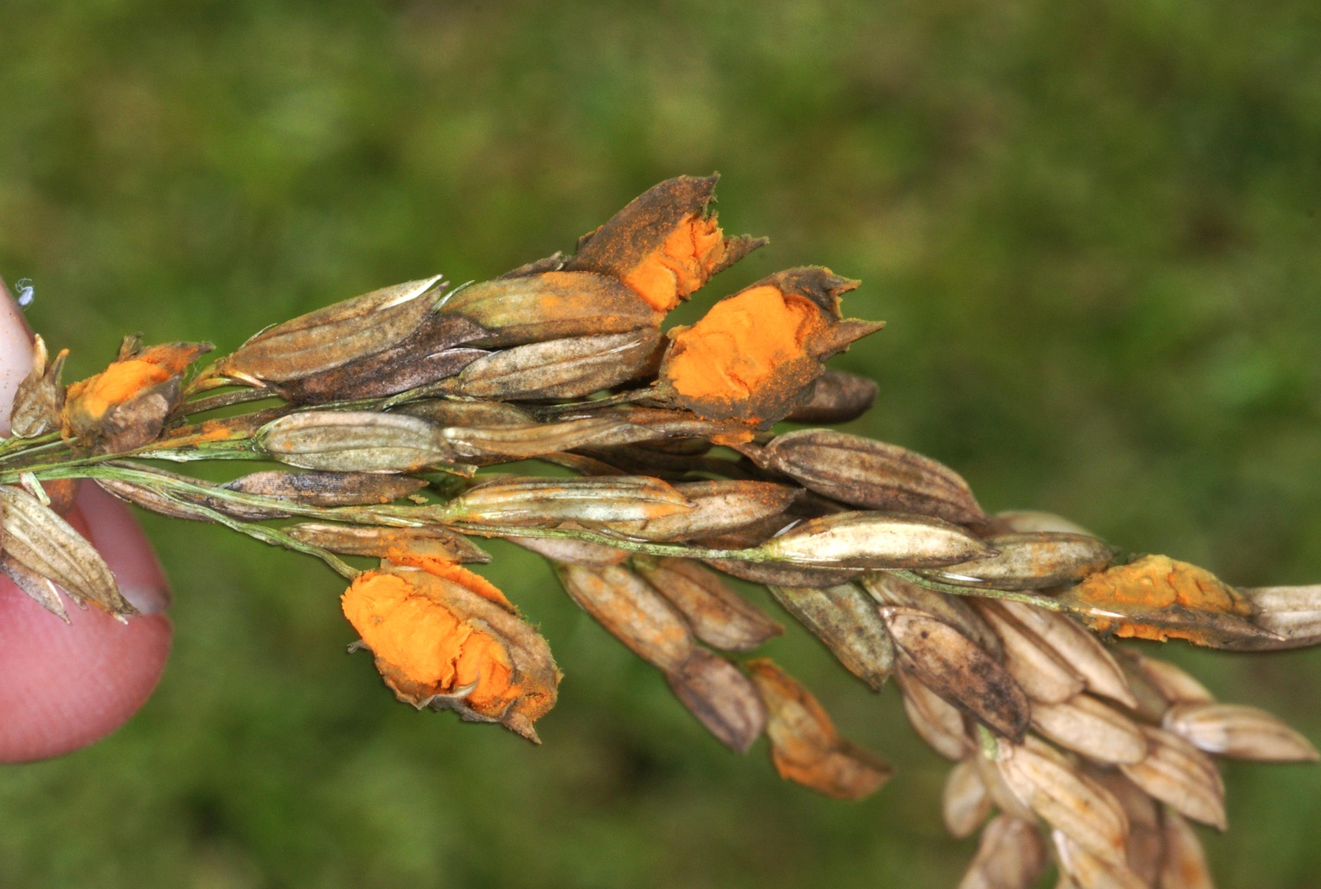False Smut: (328, 532, 574, 745), (650, 252, 879, 446), (555, 157, 756, 338), (30, 333, 241, 465), (1064, 537, 1272, 668)
